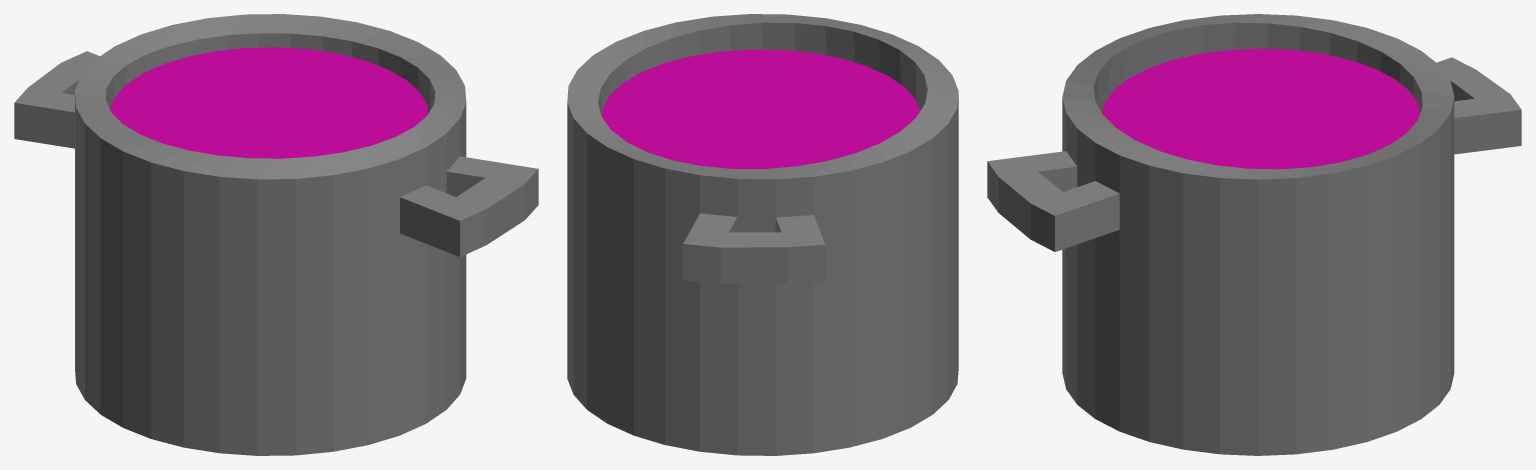
Rendered from ollaFresa.fbx.
3 renders of one model, left to right at view 1: azimuth 30°, elevation 25°; view 2: azimuth 150°, elevation 25°; view 3: azimuth 270°, elevation 25°, orthographic.
Parts seen in each view (by area): view 1: Cylinder; view 2: Cylinder; view 3: Cylinder.
Boxes of the visible parts, left/top/right/bottom form: Cylinder: left=14, top=14, right=538, bottom=455; Cylinder: left=567, top=14, right=958, bottom=455; Cylinder: left=987, top=14, right=1521, bottom=455.
Size of the model in its own units: 45 by 35.97 by 61.33.
